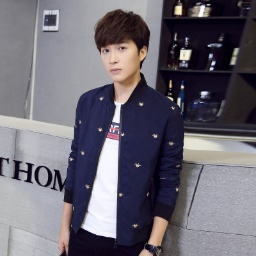face: (93, 8, 152, 85)
